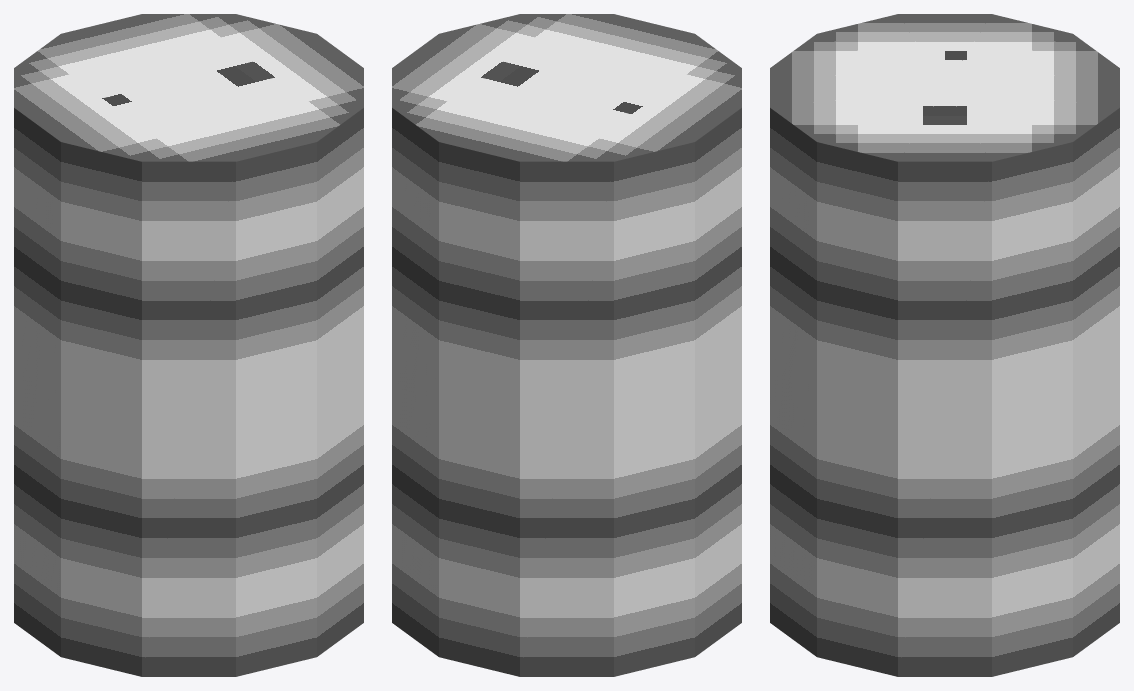
Rendered from Barrel.fbx.
The picture shows the model from 3 angles, left to right: view 1: azimuth 30°, elevation 25°; view 2: azimuth 150°, elevation 25°; view 3: azimuth 270°, elevation 25°; orthographic projection.
Visible parts, largest first — view 1: cylinder; view 2: cylinder; view 3: cylinder.
Boxes of the visible parts, x1,y1,x2,y2 form: cylinder: (14,14,363,676); cylinder: (392,14,741,676); cylinder: (770,14,1119,676).
Bounding box in the file's own units: 100 × 162 × 100.
